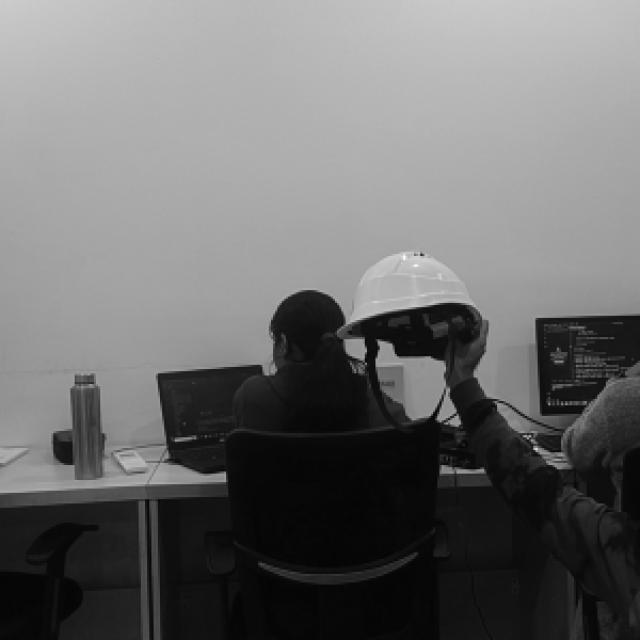safety_helmet: (336, 252, 481, 339)
